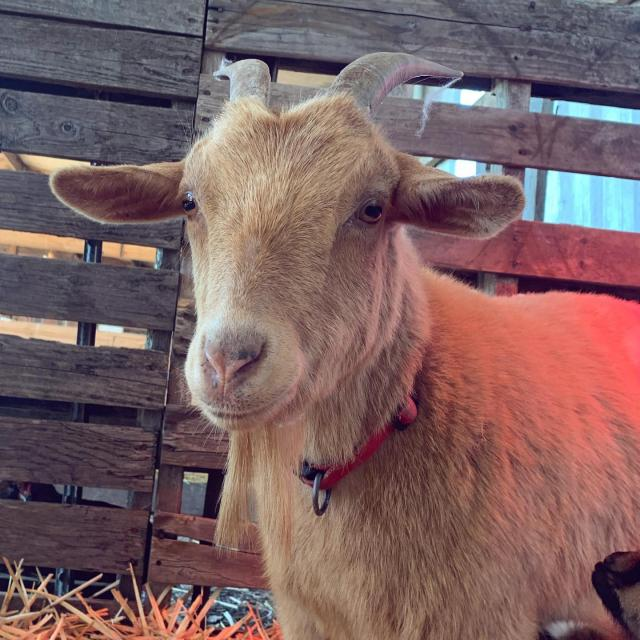goat: (28, 28, 632, 626)
